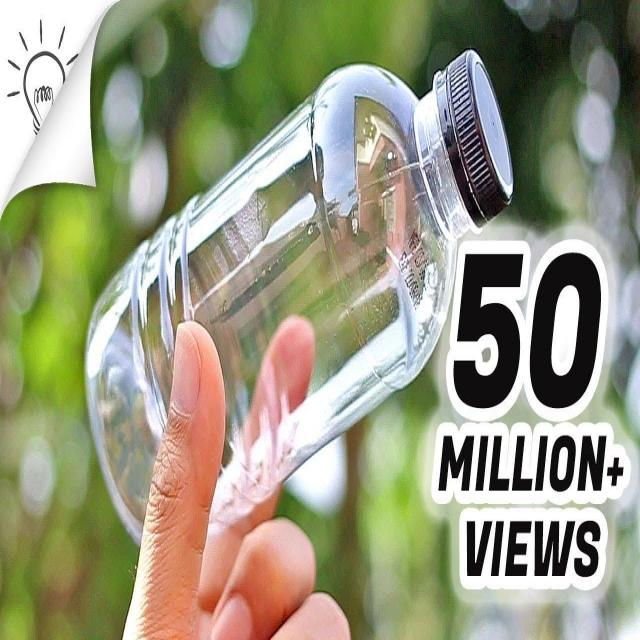others: (130, 326, 343, 640)
plastic_bottle: (93, 63, 513, 541)
